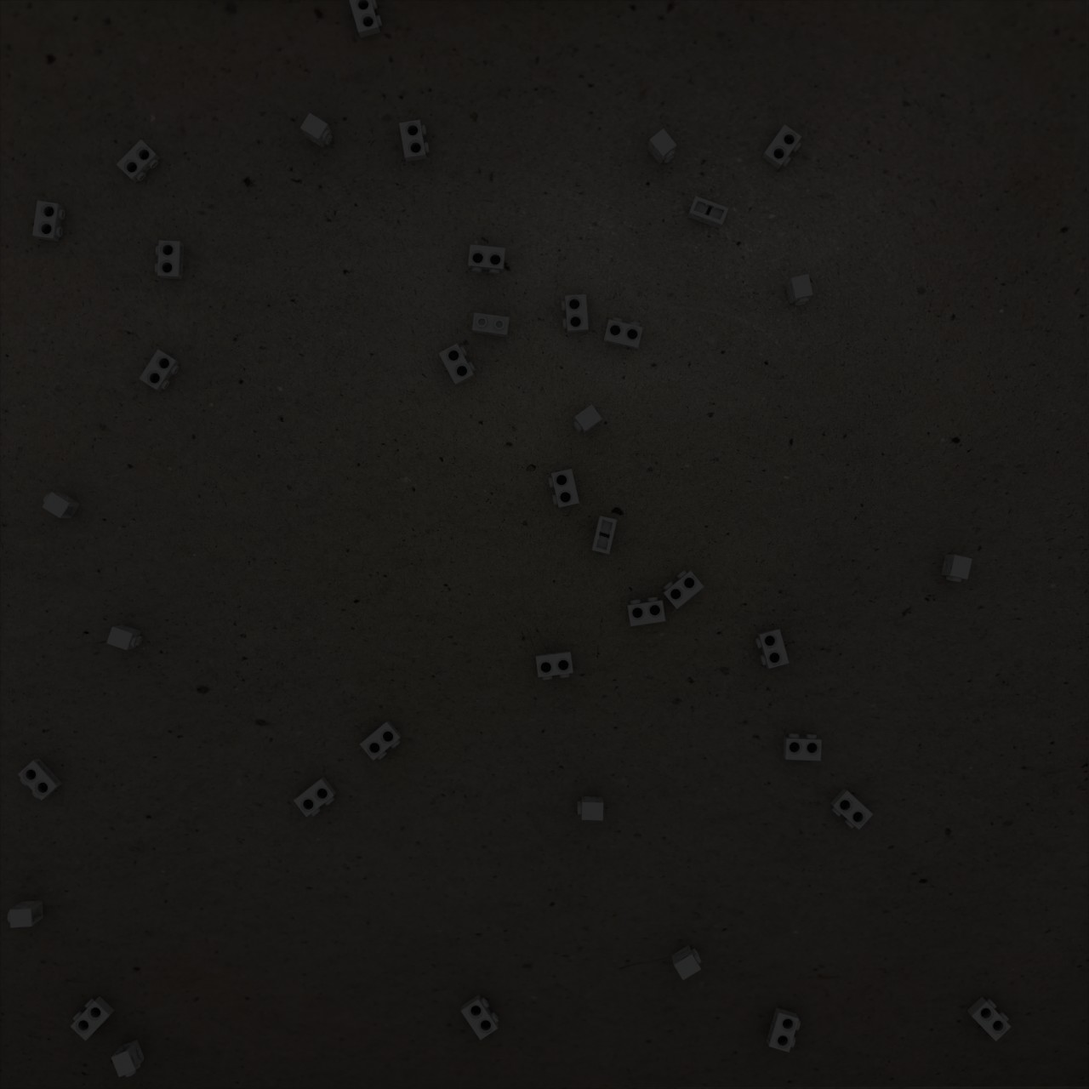lego: (70, 996, 115, 1041), (967, 996, 1011, 1042), (116, 139, 160, 183), (18, 758, 63, 801), (762, 124, 802, 170), (830, 788, 873, 830), (293, 776, 337, 817), (139, 349, 180, 392), (461, 994, 499, 1040), (360, 720, 402, 761), (662, 570, 704, 609), (438, 343, 476, 386), (766, 1007, 801, 1053), (755, 628, 789, 669), (32, 200, 65, 242), (687, 196, 729, 229), (399, 119, 430, 162), (603, 317, 643, 350), (111, 1039, 145, 1077), (349, 0, 382, 38), (548, 469, 579, 508), (155, 240, 184, 280), (300, 113, 333, 148), (468, 244, 506, 274), (627, 597, 666, 626), (647, 128, 677, 165), (783, 733, 822, 761), (561, 294, 589, 333), (671, 945, 702, 980), (536, 651, 573, 680), (42, 492, 80, 519), (7, 900, 43, 928), (591, 516, 617, 554), (472, 313, 510, 338), (106, 625, 142, 650), (573, 404, 602, 434), (941, 554, 972, 582), (786, 274, 813, 306), (577, 796, 604, 821)
